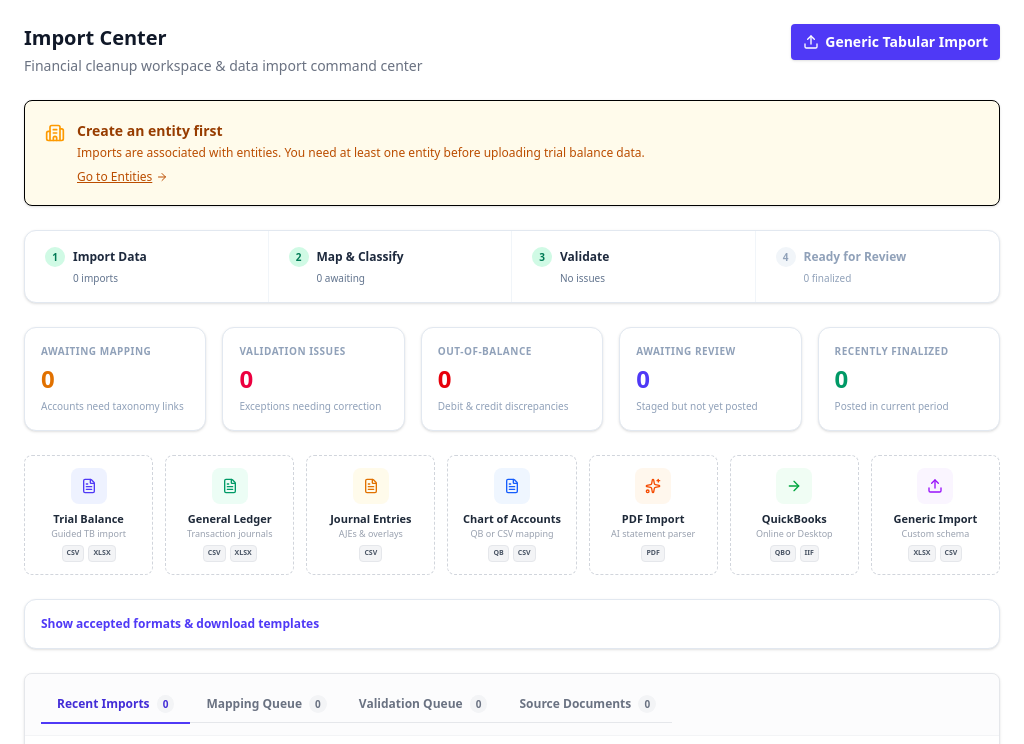
Test: ImportCenterPage — M31 entity selector › expands format guidance with download buttons when clicked
The width and height of the screenshot is (1024, 744).
Click the button "Show accepted formats & download templates" at (180, 624), box [41,616,319,632]
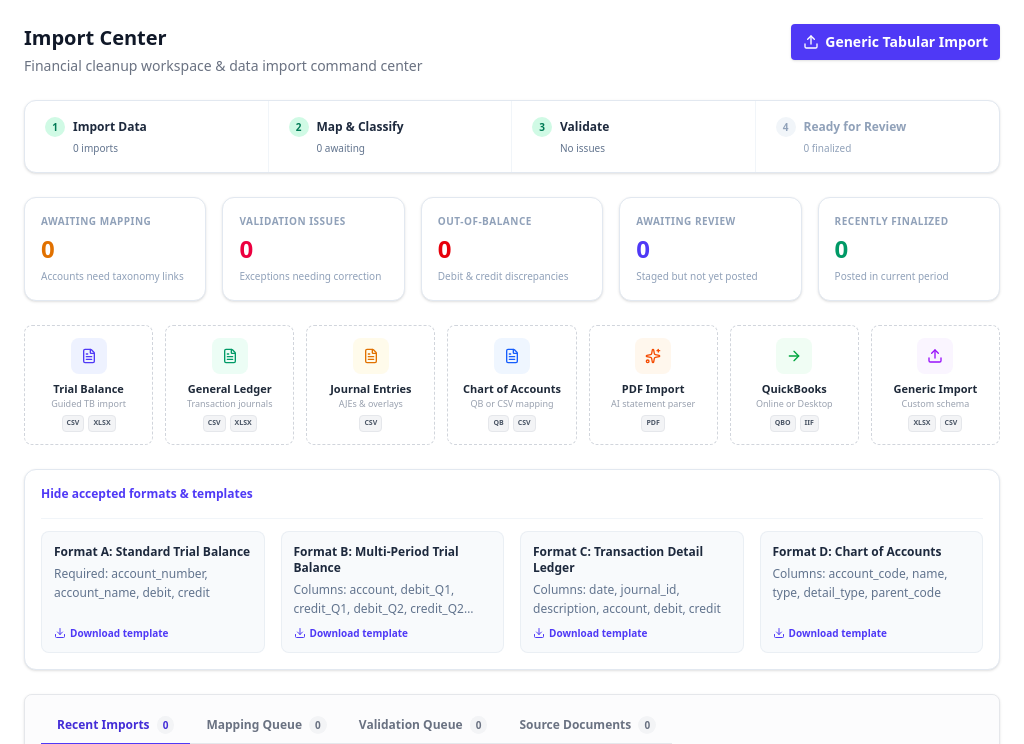
Expected: the heading "Format A: Standard Trial Balance" is shown, [54,544,252,560]
Expected: the heading "Format B: Multi-Period Trial Balance" is shown, [294,542,459,576]
Expected: the heading "Format C: Transaction Detail Ledger" is shown, [533,544,730,576]
